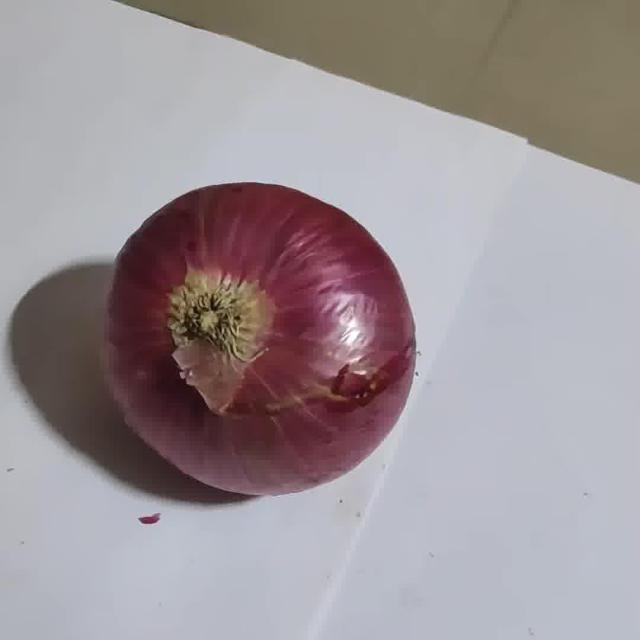Onion: (106, 183, 415, 495)
